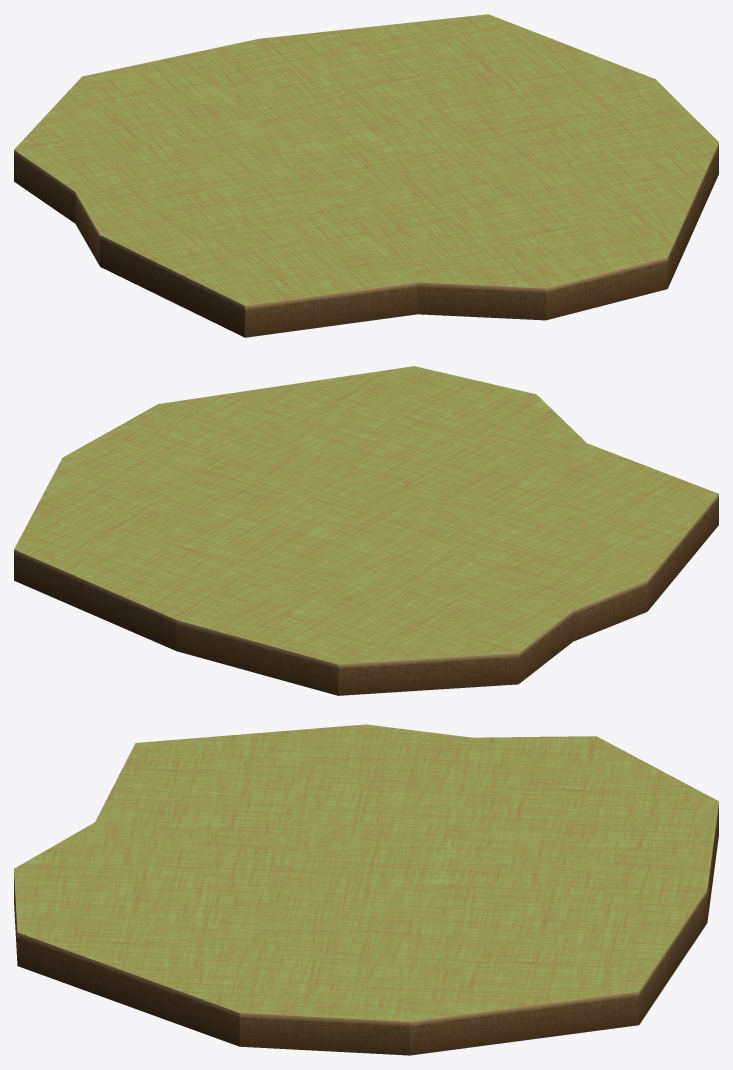
File: Terrain01_D.FBX
3 renders of one model, top to bottom at view 1: azimuth 30°, elevation 25°; view 2: azimuth 150°, elevation 25°; view 3: azimuth 270°, elevation 25°, orthographic. The views are drawn at different scales.
Parts seen in each view (by area): view 1: Terrain01_D; view 2: Terrain01_D; view 3: Terrain01_D.
Part boxes in pixels (x1=…): Terrain01_D: x1=14, y1=14, x2=718, y2=337; Terrain01_D: x1=14, y1=366, x2=718, y2=695; Terrain01_D: x1=14, y1=724, x2=718, y2=1055.
Size of the model in its own units: 950 by 50.17 by 951.
Materials: 1 (1 with a texture image).
